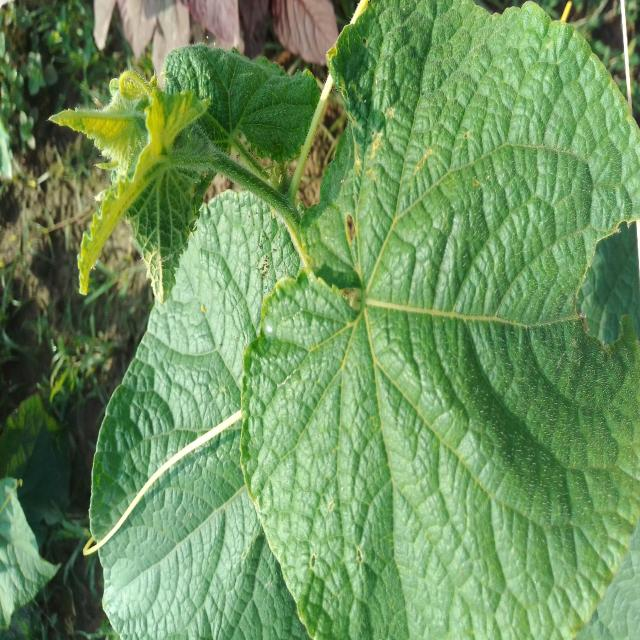cucumber_healthy: (235, 0, 640, 640), (85, 186, 308, 640), (46, 41, 337, 311)
